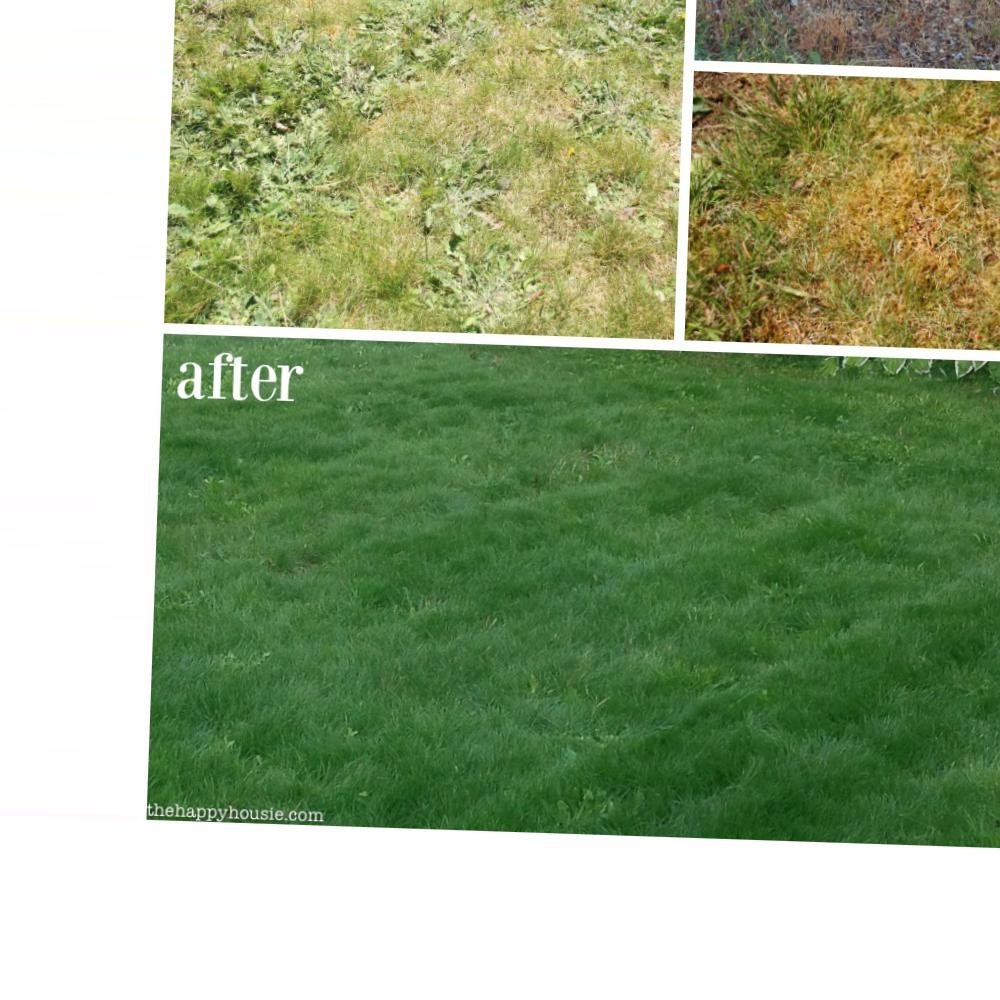patch: (818, 127, 996, 262), (501, 208, 659, 318), (458, 46, 589, 174), (295, 220, 461, 307), (254, 88, 381, 192), (729, 170, 813, 302), (831, 293, 946, 336)
